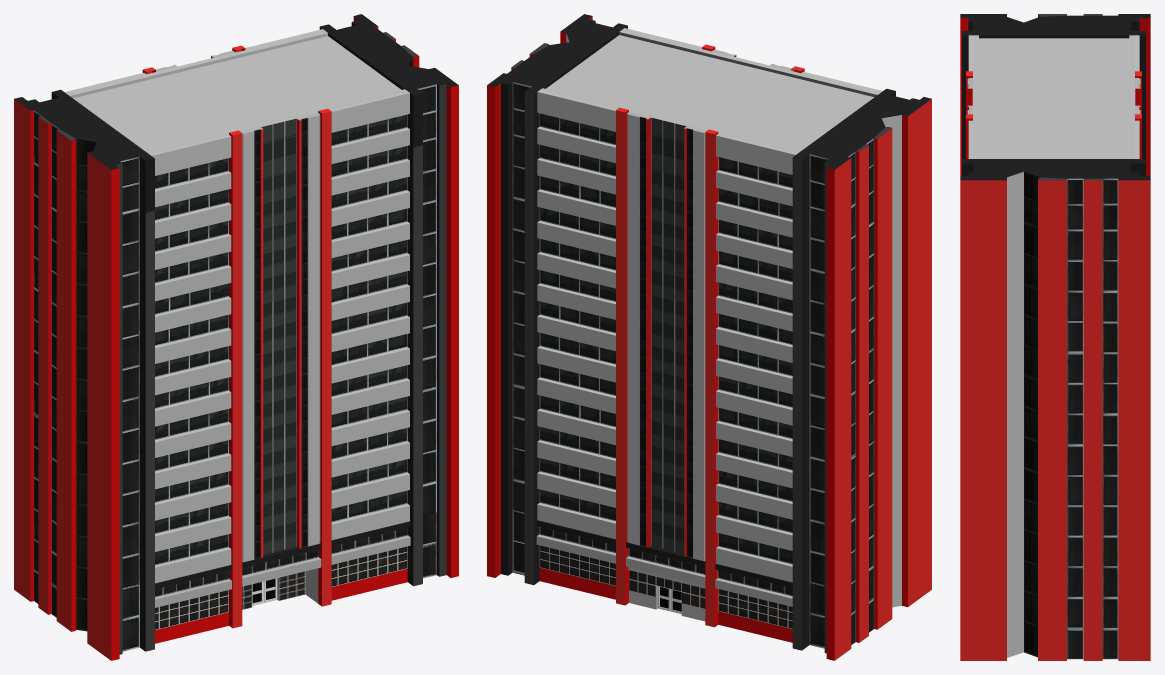
Rendered from Tower-02.fbx.
3 views of the same model, side by side, from view 1: azimuth 30°, elevation 25°; view 2: azimuth 150°, elevation 25°; view 3: azimuth 270°, elevation 25° (orthographic). The views are drawn at different scales.
Visible parts, largest first — view 1: Tower-02; view 2: Tower-02; view 3: Tower-02.
Boxes of the visible parts, x1,y1,x2,y2 form: Tower-02: [14, 14, 458, 660]; Tower-02: [487, 14, 931, 660]; Tower-02: [960, 14, 1150, 660].
Size of what is drawn, in the model's own units: 34.87 by 47.2 by 16.89.
